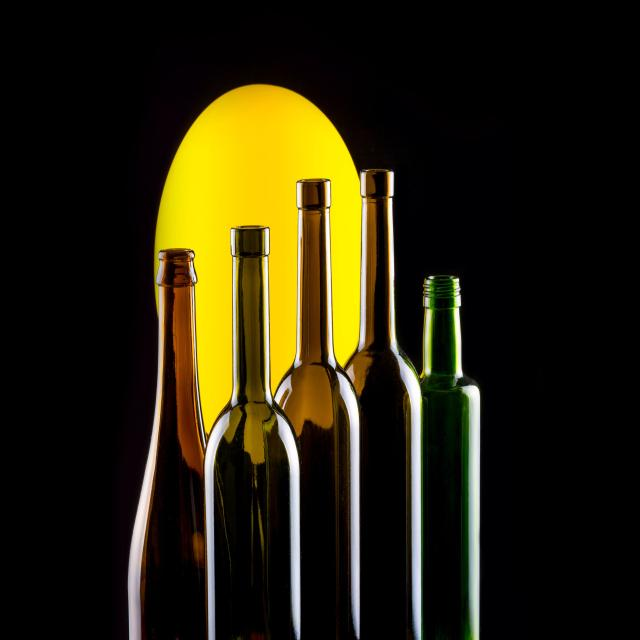Bottle: (205, 226, 300, 639), (276, 180, 359, 639), (345, 170, 422, 639), (129, 249, 206, 639), (421, 276, 479, 639)
